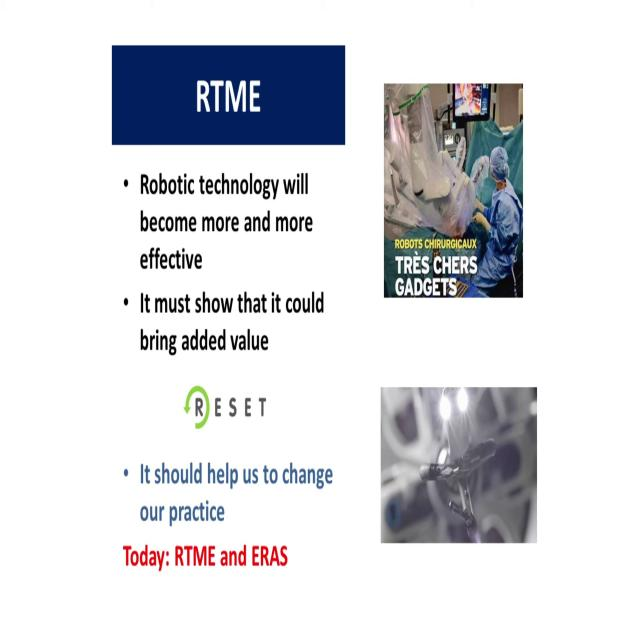image: (381, 386, 537, 543)
text: (85, 18, 364, 590)
